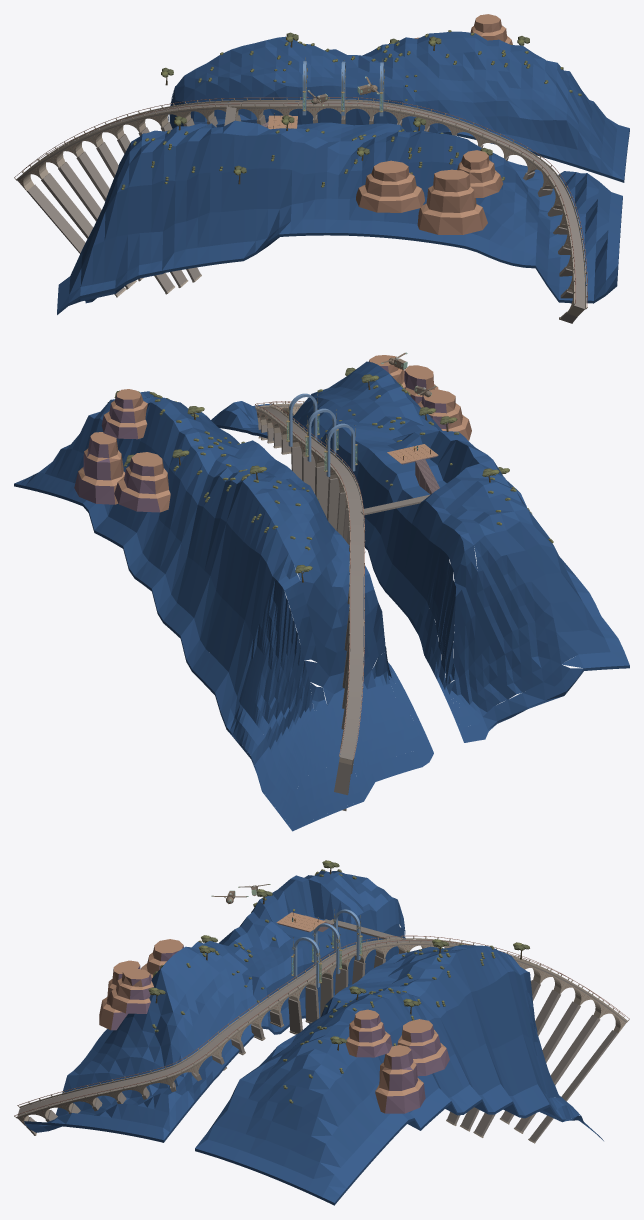
File: gate-r10.glb
The picture shows the model from 3 angles, top to bottom: view 1: azimuth 30°, elevation 25°; view 2: azimuth 150°, elevation 25°; view 3: azimuth 270°, elevation 25°; orthographic projection. The views are drawn at different scales.
Parts seen in each view (by area): view 1: canyon-shoulder--1, canyon-shoulder-1, gate-dressing-landscape, gate-site-GateSite_trim-solid, gate-site-GateSite_stone-solid, gate-site-GateSite_stone-walk, gate-dressing-vegetation, gate-site-GateSite_rock-solid; view 2: canyon-shoulder-1, canyon-shoulder--1, gate-dressing-landscape, gate-site-GateSite_stone-walk, gate-site-GateSite_stone-solid, gate-dressing-vegetation, gate-site-GateSite_trim-solid, gate-site-GateSite_rock-solid; view 3: canyon-shoulder-1, canyon-shoulder--1, gate-dressing-landscape, gate-site-GateSite_stone-solid, gate-site-GateSite_trim-solid, gate-site-GateSite_stone-walk, gate-dressing-vegetation, gate-site-GateSite_rock-solid, Gate_edge.016_walk.
Part boxes in pixels (x1,y1,x2,y2): canyon-shoulder--1: (57, 120, 622, 314); canyon-shoulder-1: (168, 31, 629, 182); gate-dressing-landscape: (356, 14, 512, 234); gate-site-GateSite_trim-solid: (14, 97, 587, 323); gate-site-GateSite_stone-solid: (27, 114, 577, 323); gate-site-GateSite_stone-walk: (17, 101, 585, 309); gate-dressing-vegetation: (121, 30, 581, 189); gate-site-GateSite_rock-solid: (14, 97, 587, 307); canyon-shoulder-1: (14, 391, 433, 831); canyon-shoulder--1: (211, 361, 629, 742); gate-dressing-landscape: (74, 355, 471, 512); gate-site-GateSite_stone-walk: (256, 405, 430, 760); gate-site-GateSite_stone-solid: (258, 423, 355, 810); gate-dressing-vegetation: (107, 367, 553, 582); gate-site-GateSite_trim-solid: (255, 401, 365, 810); gate-site-GateSite_rock-solid: (255, 401, 364, 758); canyon-shoulder-1: (195, 945, 603, 1205); canyon-shoulder--1: (24, 871, 405, 1142); gate-dressing-landscape: (99, 939, 449, 1113); gate-site-GateSite_stone-solid: (26, 953, 618, 1142); gate-site-GateSite_trim-solid: (14, 936, 629, 1143); gate-site-GateSite_stone-walk: (17, 919, 626, 1118); gate-dressing-vegetation: (148, 860, 529, 1103); gate-site-GateSite_rock-solid: (14, 935, 629, 1122); Gate_edge.016_walk: (276, 912, 325, 931).
Size of the model in its own units: 230 by 113 by 212.
